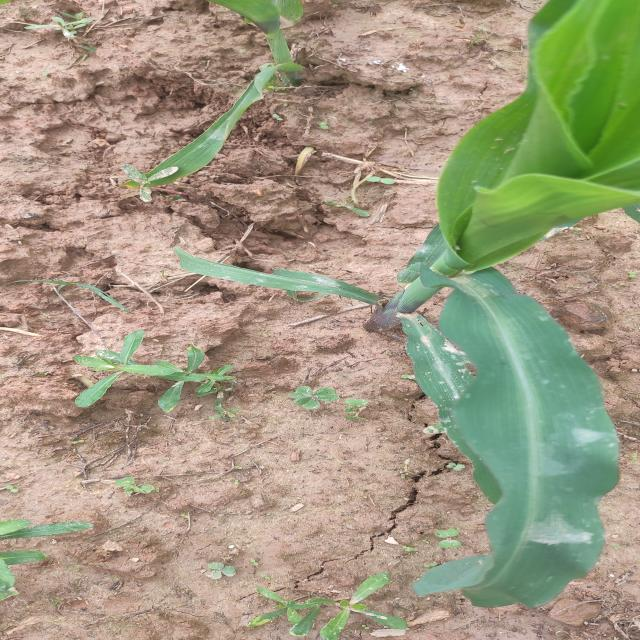maize: (208, 0, 640, 640)
weed: (30, 324, 286, 411), (228, 572, 404, 630), (0, 507, 85, 602), (267, 378, 392, 439), (102, 166, 190, 196)
